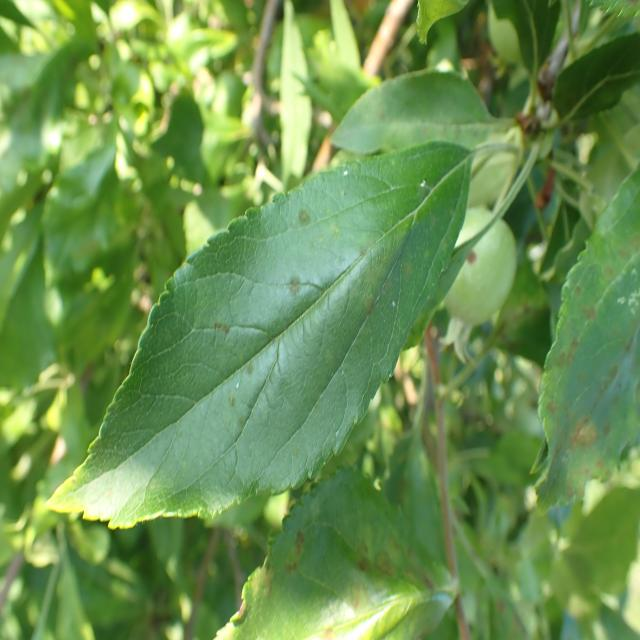scab: (162, 192, 444, 471), (537, 205, 640, 490)
